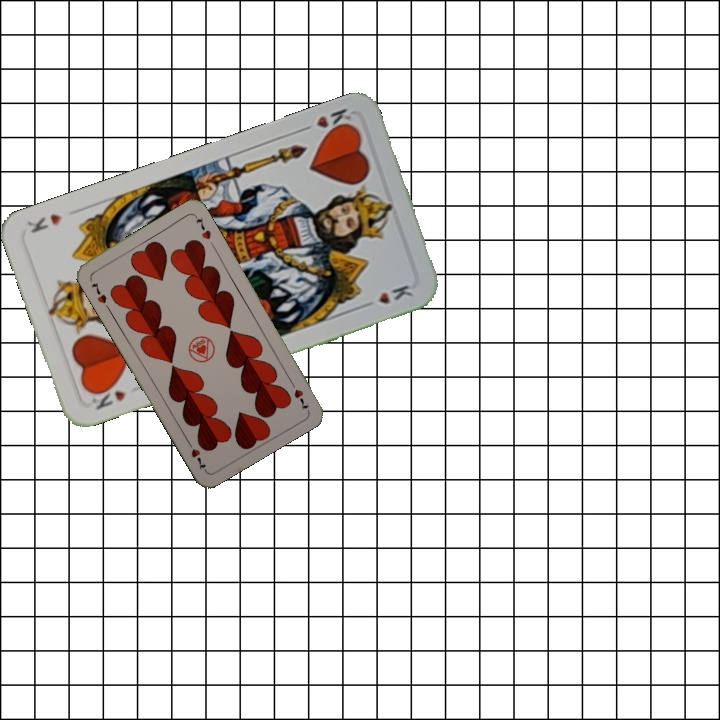H7: (286, 376, 311, 413), (87, 278, 109, 306)
HK: (296, 104, 356, 138), (87, 380, 129, 413)
